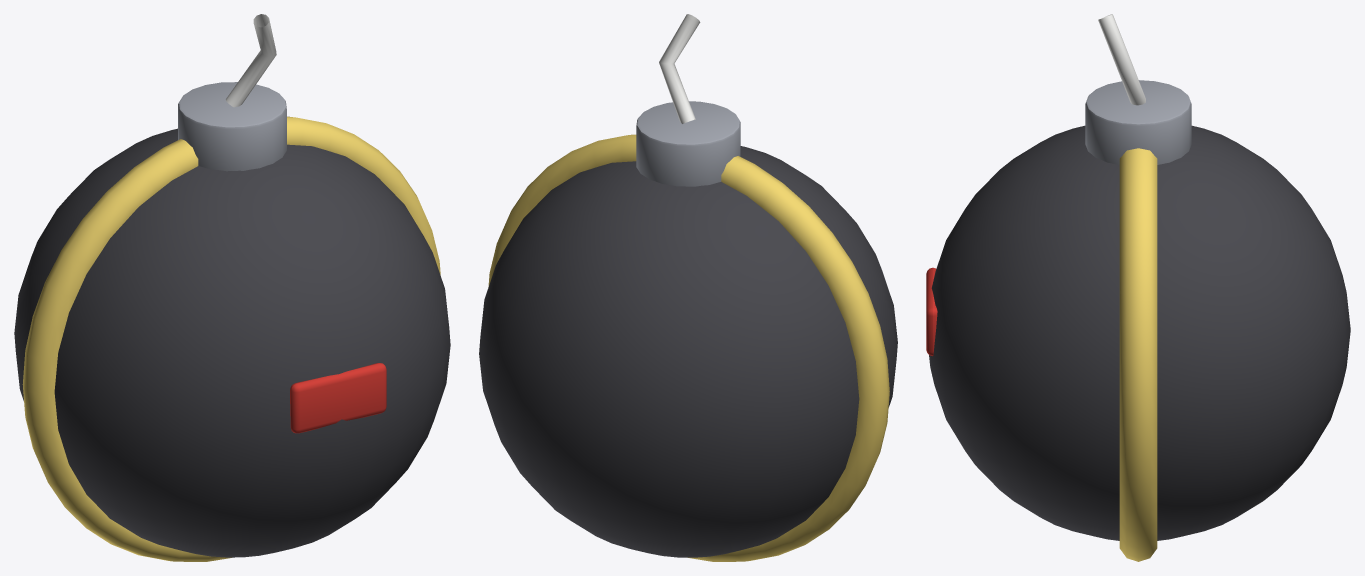
The model's file is bomb.glb.
3 renders of one model, left to right at view 1: azimuth 30°, elevation 25°; view 2: azimuth 150°, elevation 25°; view 3: azimuth 270°, elevation 25°, orthographic. The views are drawn at different scales.
Parts seen in each view (by area): view 1: ball, band, cap, face, fuse; view 2: ball, band, cap, fuse; view 3: ball, band, cap, fuse, face.
Part boxes in pixels (x1,y1,x2,y2): ball: (14, 128, 450, 557); band: (22, 116, 440, 561); cap: (178, 82, 286, 171); face: (290, 363, 386, 433); fuse: (226, 14, 276, 107); ball: (479, 146, 897, 557); band: (488, 134, 889, 561); cap: (636, 101, 740, 186); fuse: (659, 14, 700, 123); ball: (929, 125, 1350, 540); band: (1119, 148, 1157, 561); cap: (1085, 80, 1191, 164); fuse: (1098, 14, 1145, 105); face: (926, 267, 937, 355).
Bounding box in the file's own units: 0.7 × 0.886 × 0.64.
